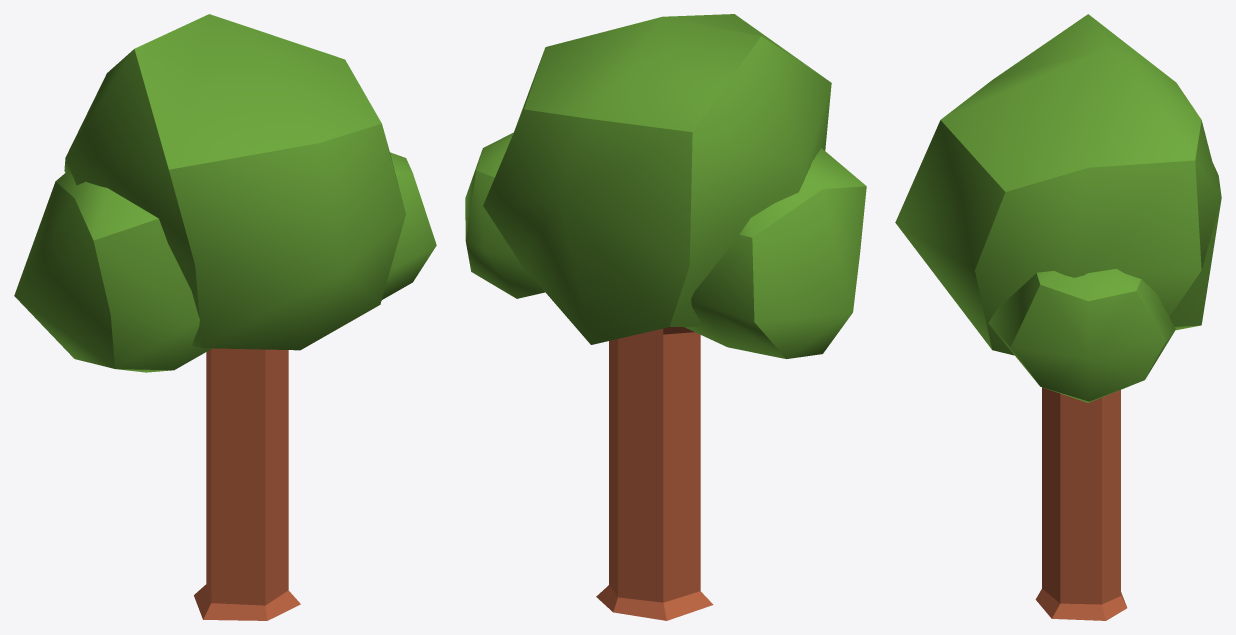
The picture shows the model from 3 angles, left to right: view 1: azimuth 30°, elevation 25°; view 2: azimuth 150°, elevation 25°; view 3: azimuth 270°, elevation 25°; orthographic projection. The views are drawn at different scales.
Parts seen in each view (by area): view 1: Tree; view 2: Tree; view 3: Tree.
Part boxes in pixels (x1,y1,x2,y2): Tree: (14, 14, 436, 620); Tree: (465, 14, 866, 620); Tree: (895, 14, 1221, 620).
Bounding box in the file's own units: 6.3 × 8.91 × 4.85.
Materials: 1 (1 with a texture image).
